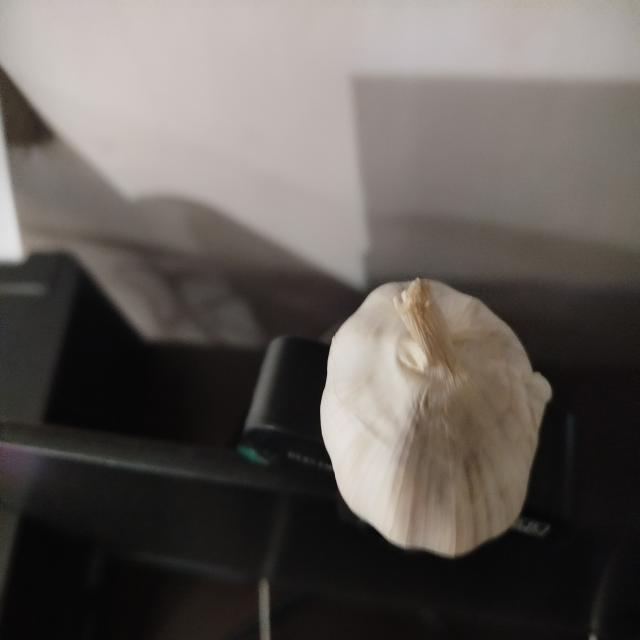garlic: (319, 276, 553, 559)
